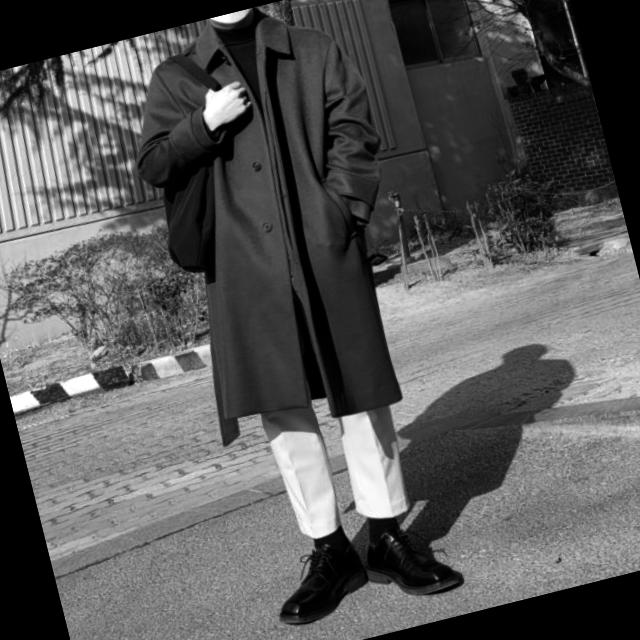coat: (102, 0, 440, 450)
slacks: (253, 348, 414, 548)
